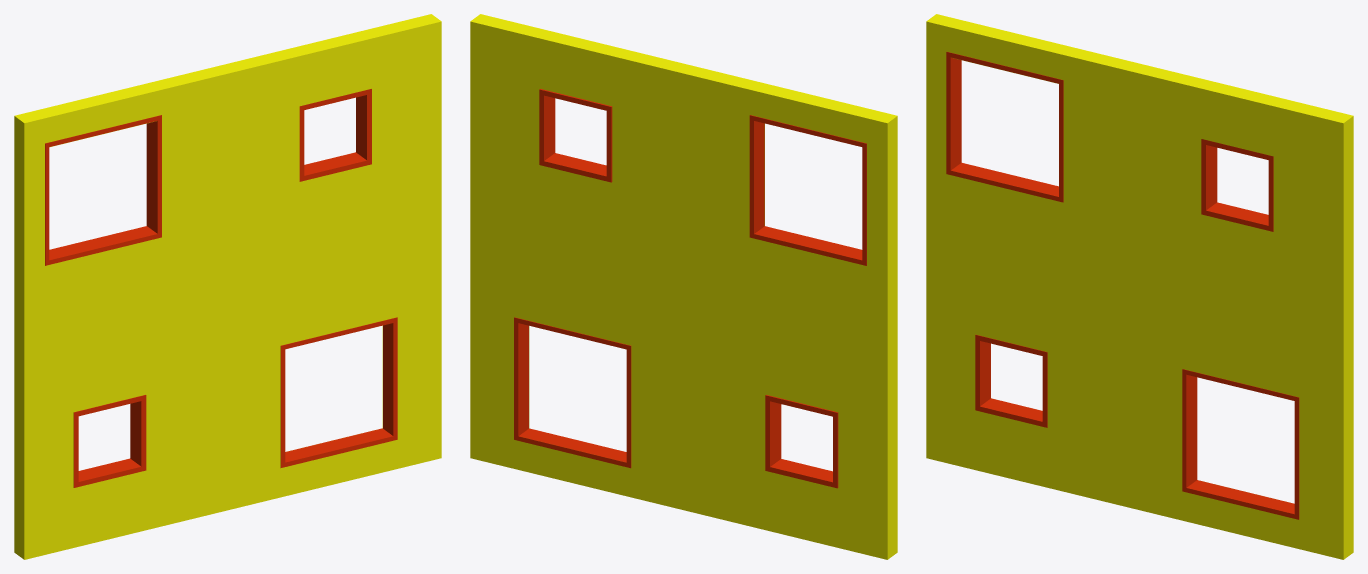
The model's file is TorpedoTarget.dae.
3 renders of one model, left to right at view 1: azimuth 30°, elevation 25°; view 2: azimuth 150°, elevation 25°; view 3: azimuth 330°, elevation 25°, orthographic.
Visible parts, largest first — view 1: Cube, Border, Border_001, Cube_002, Cube_003; view 2: Cube, Border_001, Border, Cube_003, Cube_002; view 3: Cube, Border, Border_001, Cube_003, Cube_002.
Boxes of the visible parts, box(x1,y1,x2,y2) form: Cube: box(14, 14, 441, 559); Border: box(280, 317, 397, 467); Border_001: box(45, 115, 161, 265); Cube_002: box(73, 395, 146, 487); Cube_003: box(299, 89, 371, 181); Cube: box(470, 14, 897, 559); Border_001: box(749, 115, 866, 265); Border: box(514, 317, 631, 468); Cube_003: box(539, 89, 612, 182); Cube_002: box(765, 395, 838, 488); Cube: box(926, 14, 1353, 559); Border: box(1182, 369, 1299, 519); Border_001: box(946, 52, 1063, 202); Cube_003: box(1201, 139, 1273, 231); Cube_002: box(975, 334, 1047, 427).
Size of the model in its own units: 1.2 by 0.0572 by 1.2.
